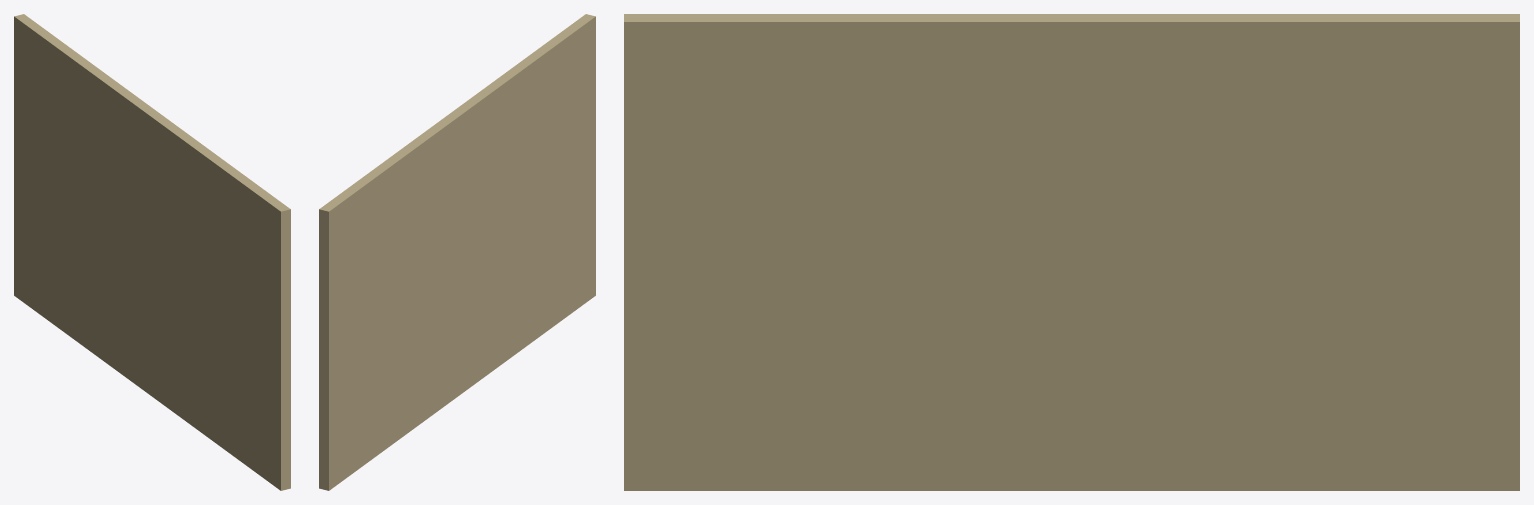
3 views of the same model, side by side, from view 1: azimuth 30°, elevation 25°; view 2: azimuth 150°, elevation 25°; view 3: azimuth 270°, elevation 25° (orthographic). The views are drawn at different scales.
Parts seen in each view (by area): view 1: GF-W092; view 2: GF-W092; view 3: GF-W092.
Boxes of the visible parts, left/top/right/bottom form: GF-W092: left=14, top=14, right=290, bottom=490; GF-W092: left=319, top=14, right=595, bottom=490; GF-W092: left=624, top=14, right=1519, bottom=490.
Size of the model in its own units: 0.09 by 2.42 by 4.19.
